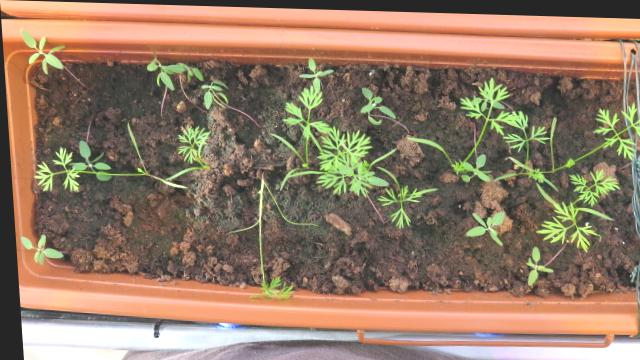weed: (14, 25, 70, 76), (455, 203, 507, 245), (15, 228, 61, 267), (515, 239, 553, 284)
